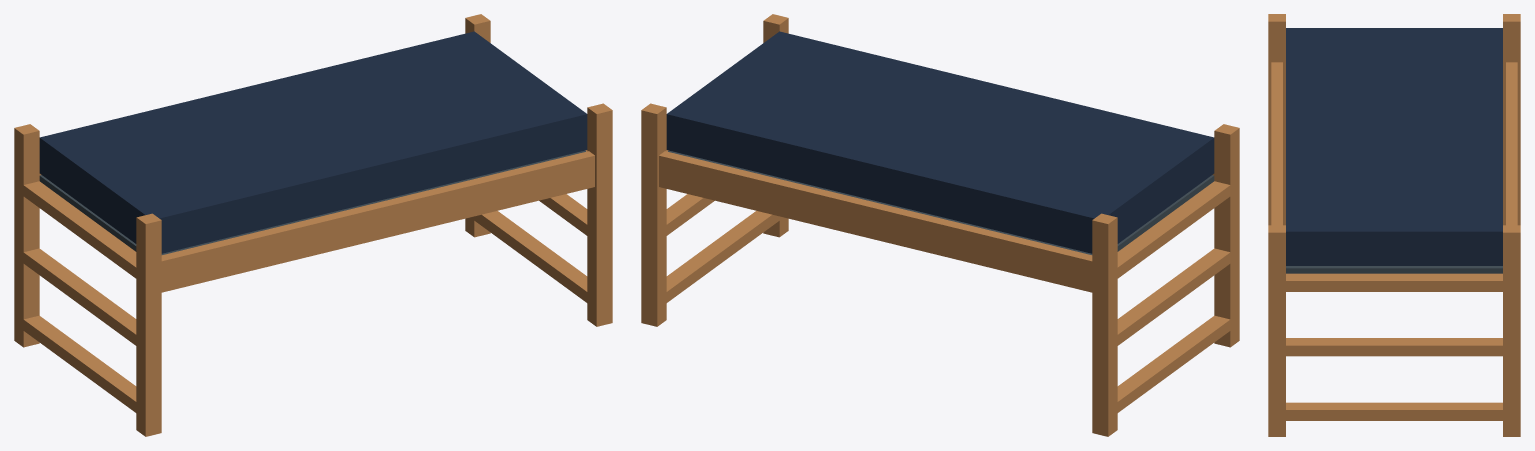
Rendered from ww_bed-SvCghgpI.glb.
3 views of the same model, side by side, from view 1: azimuth 30°, elevation 25°; view 2: azimuth 150°, elevation 25°; view 3: azimuth 270°, elevation 25° (orthographic). The views are drawn at different scales.
Size of the model in its own units: 2.18 by 0.95 by 1.06.
